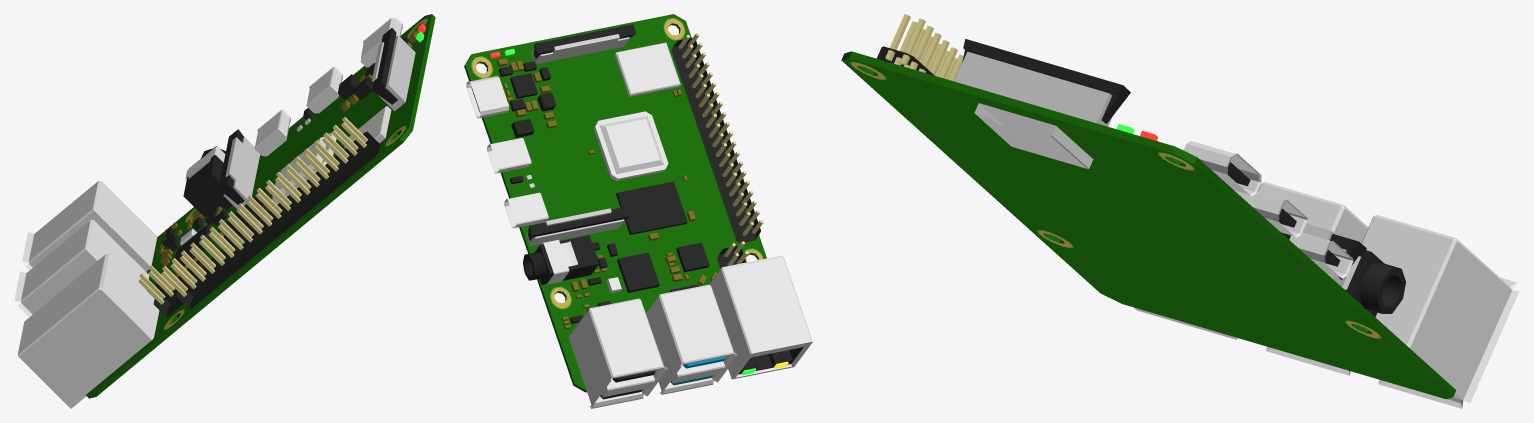
File: pi_simple.gltf
3 renders of one model, left to right at view 1: azimuth 30°, elevation 25°; view 2: azimuth 150°, elevation 25°; view 3: azimuth 270°, elevation 25°, orthographic. The views are drawn at different scales.
Parts seen in each view (by area): view 1: Ethernet 金属, 基板, microHDMI 2 プラスチック, 無線, 立方体.057, LCDコネクタ 白, 立方体.115; view 2: 基板, 無線, Ethernet 金属, microHDMI 2 プラスチック, 立方体.057, LCDコネクタ 白, 立方体.115, USB 3.0 プラスチック; view 3: 基板, 無線, microHDMI 2 プラスチック, LCDコネクタ 白, Ethernet 金属, 立方体, 立方体.057.
Boxes of the visible parts, <box> form: Ethernet 金属: <box>17,17,402,408</box>; 基板: <box>86,14,435,398</box>; microHDMI 2 プラスチック: <box>148,28,410,316</box>; 無線: <box>14,106,391,317</box>; 立方体.057: <box>138,117,367,304</box>; LCDコネクタ 白: <box>223,35,415,209</box>; 立方体.115: <box>159,32,416,277</box>; 基板: <box>464,14,766,392</box>; 無線: <box>568,42,738,408</box>; Ethernet 金属: <box>466,76,812,379</box>; microHDMI 2 プラスチック: <box>471,24,803,399</box>; 立方体.057: <box>678,33,763,265</box>; LCDコネクタ 白: <box>526,34,629,245</box>; 立方体.115: <box>497,58,717,329</box>; USB 3.0 プラスチック: <box>670,356,725,385</box>; 基板: <box>841,51,1456,398</box>; 無線: <box>1257,181,1519,408</box>; microHDMI 2 プラスチック: <box>876,39,1405,316</box>; LCDコネクタ 白: <box>954,51,1346,286</box>; Ethernet 金属: <box>1134,141,1368,339</box>; 立方体: <box>974,103,1093,168</box>; 立方体.057: <box>885,14,963,81</box>.
Bounding box in the file's own units: 4.92 × 3.51 × 4.74.
11 materials, 1 textured.
